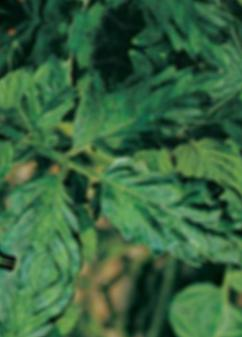Tomato leaf mosaic virus: (64, 36, 242, 192), (91, 145, 242, 287), (0, 168, 114, 285), (19, 45, 88, 155), (210, 72, 242, 165), (0, 123, 30, 199)
